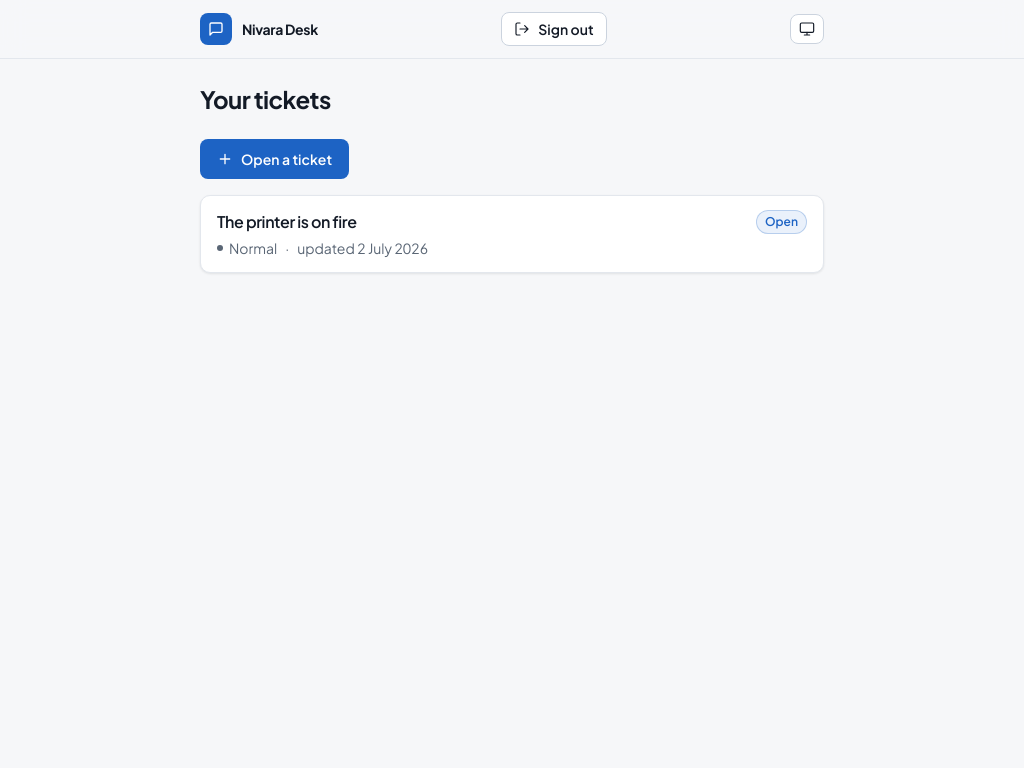
it: reading one Ticket › shows its full thread oldest first, however the API orders its default
What coordinates should you click on to do the following:
click the button "The printer is on fire Normal · updated 2 July 2026 Open"
I would click on:
 (287, 222)
Its box is [201,196,823,272].
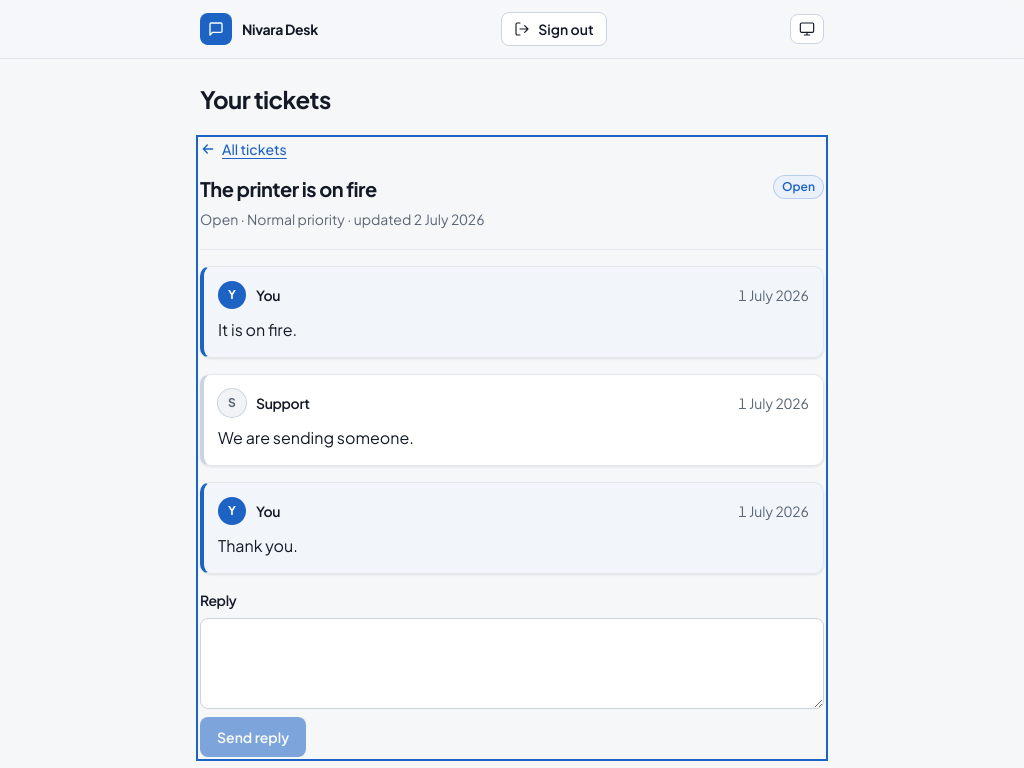
Expected: the number of list items is 3, [200,266,824,358]; [200,374,824,466]; [200,482,824,574]
Expected: the list item "Y You 1 July 2026 It is on fire." is shown, [200,266,824,358]
Expected: the list item "S Support 1 July 2026 We are sending someone." is shown, [200,374,824,466]
